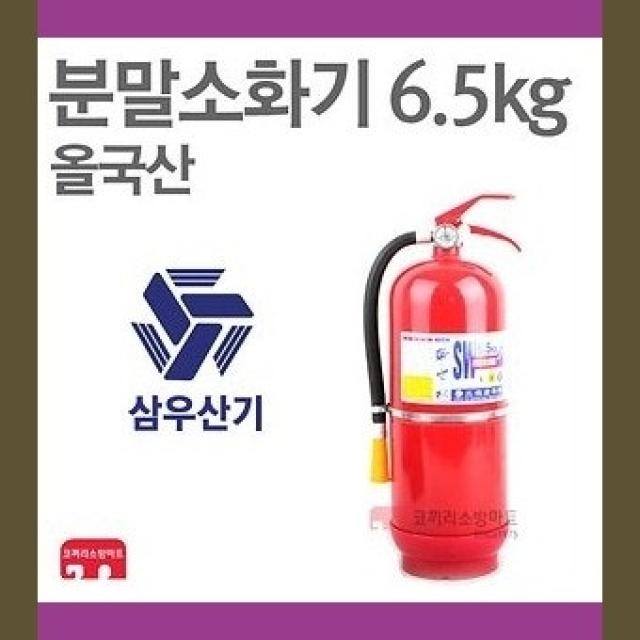pressure gauge: (433, 224, 459, 248)
